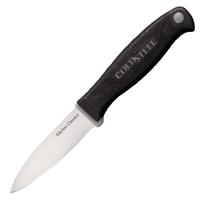knife: (7, 9, 184, 197)
